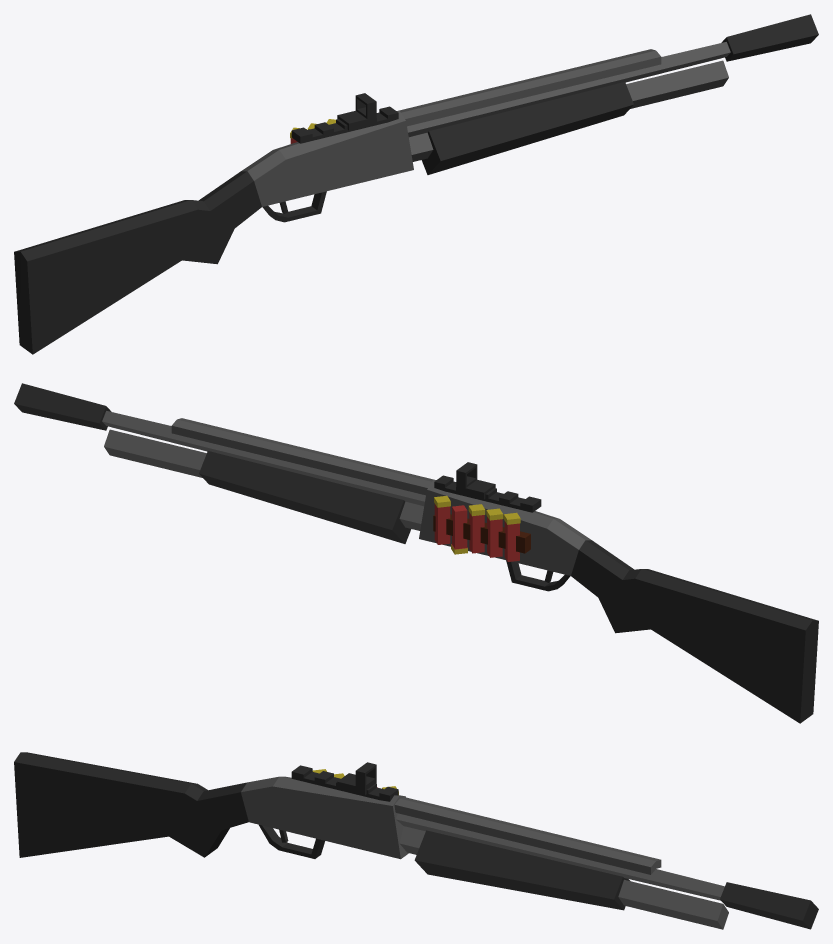
The model's file is gun2.fbx.
The picture shows the model from 3 angles, top to bottom: view 1: azimuth 30°, elevation 25°; view 2: azimuth 150°, elevation 25°; view 3: azimuth 330°, elevation 25°; orthographic projection.
Visible parts, largest first — view 1: Cube; view 2: Cube; view 3: Cube.
Part boxes in pixels (x1=…): Cube: x1=14, y1=14, x2=818, y2=354; Cube: x1=14, y1=383, x2=818, y2=723; Cube: x1=14, y1=752, x2=818, y2=929.
Size of the model in its own units: 90.78 by 18.49 by 5.78.
